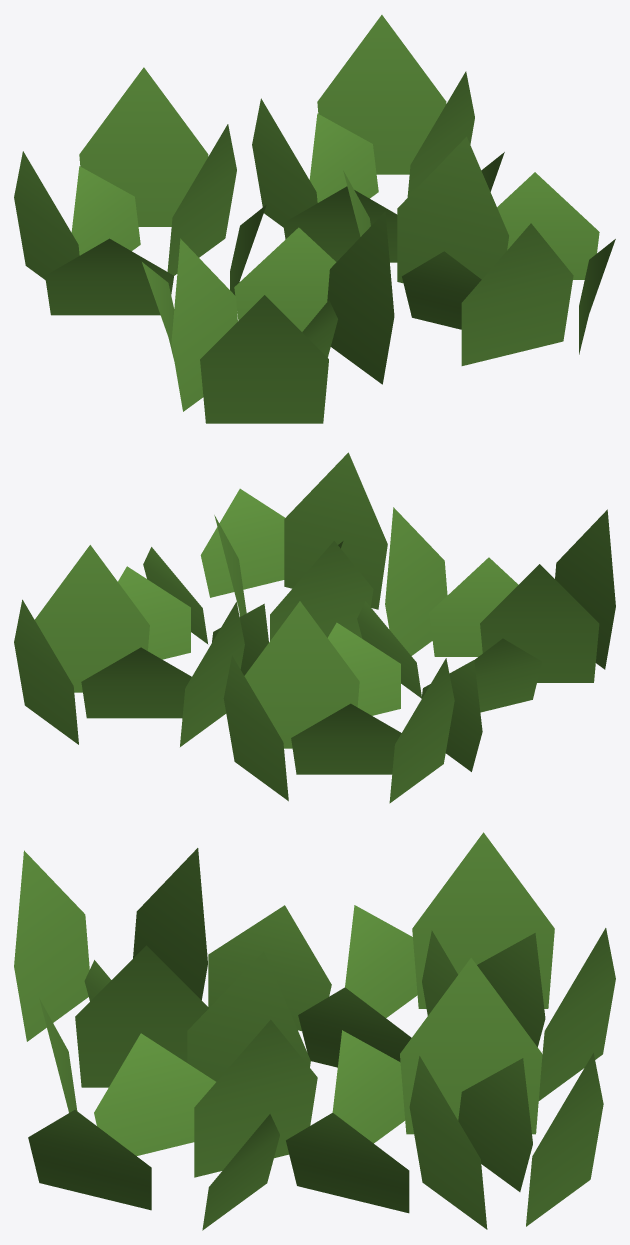
Rendered from grass_leafsLarge.glb.
3 views of the same model, one above another, from view 1: azimuth 30°, elevation 25°; view 2: azimuth 150°, elevation 25°; view 3: azimuth 270°, elevation 25° (orthographic). The views are drawn at different scales.
Parts seen in each view (by area): view 1: grass_leafsLarge; view 2: grass_leafsLarge; view 3: grass_leafsLarge.
Boxes of the visible parts, x1,y1,x2,y2 form: grass_leafsLarge: (14, 15, 615, 423); grass_leafsLarge: (14, 452, 615, 803); grass_leafsLarge: (14, 832, 615, 1230).
Size of the model in its own units: 0.4759 by 0.1425 by 0.4873.
